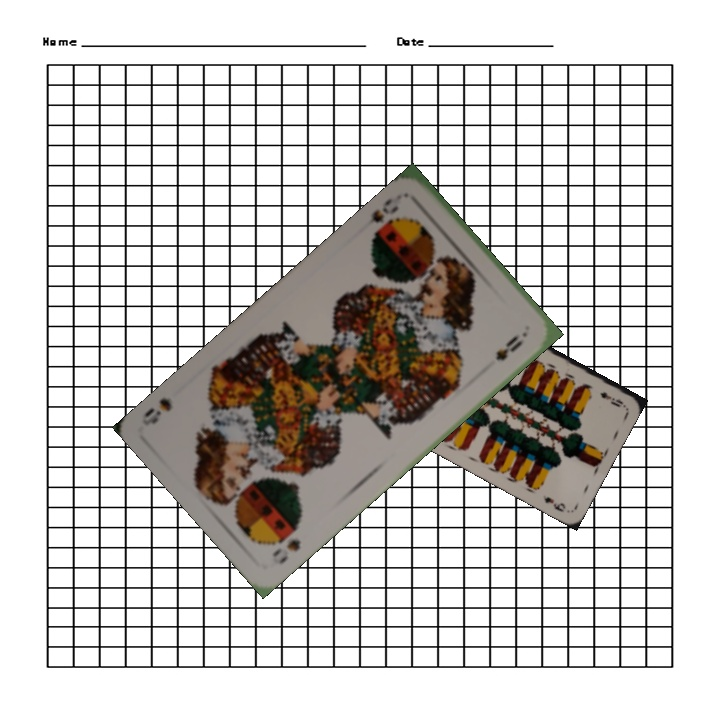E9: (596, 388, 626, 410)
SO: (357, 193, 401, 243), (268, 535, 303, 567)
